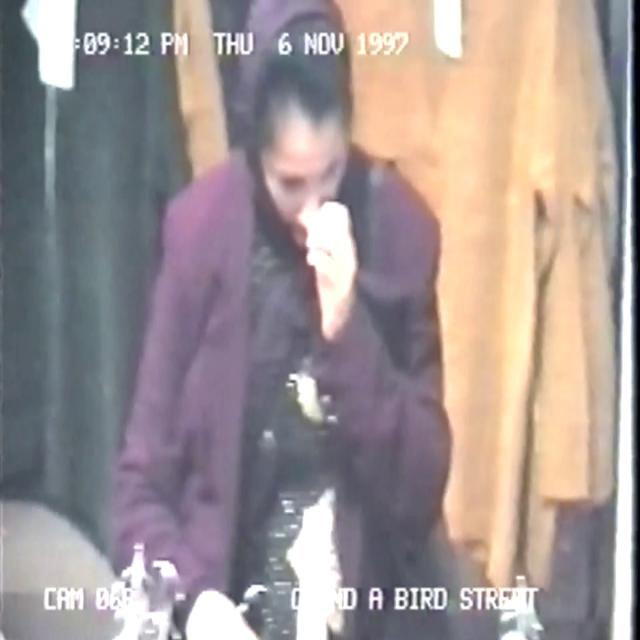normal: (95, 0, 485, 640)
